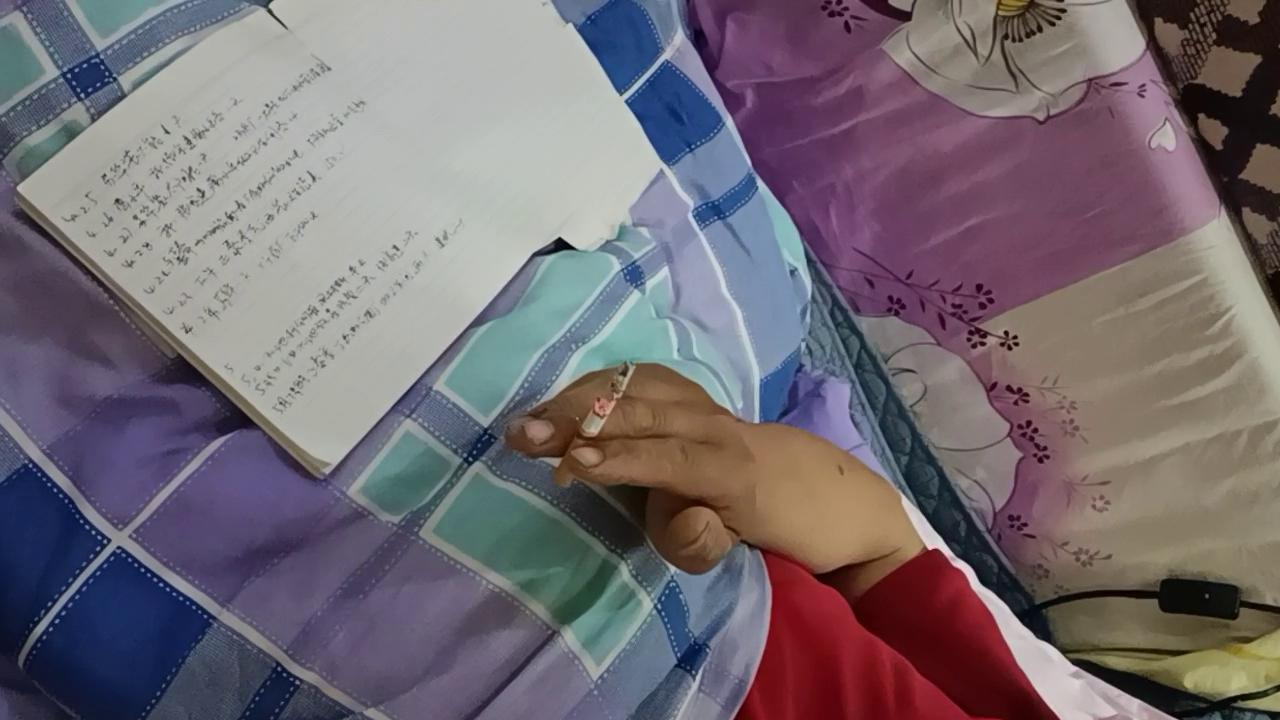smoke: (551, 359, 636, 488)
